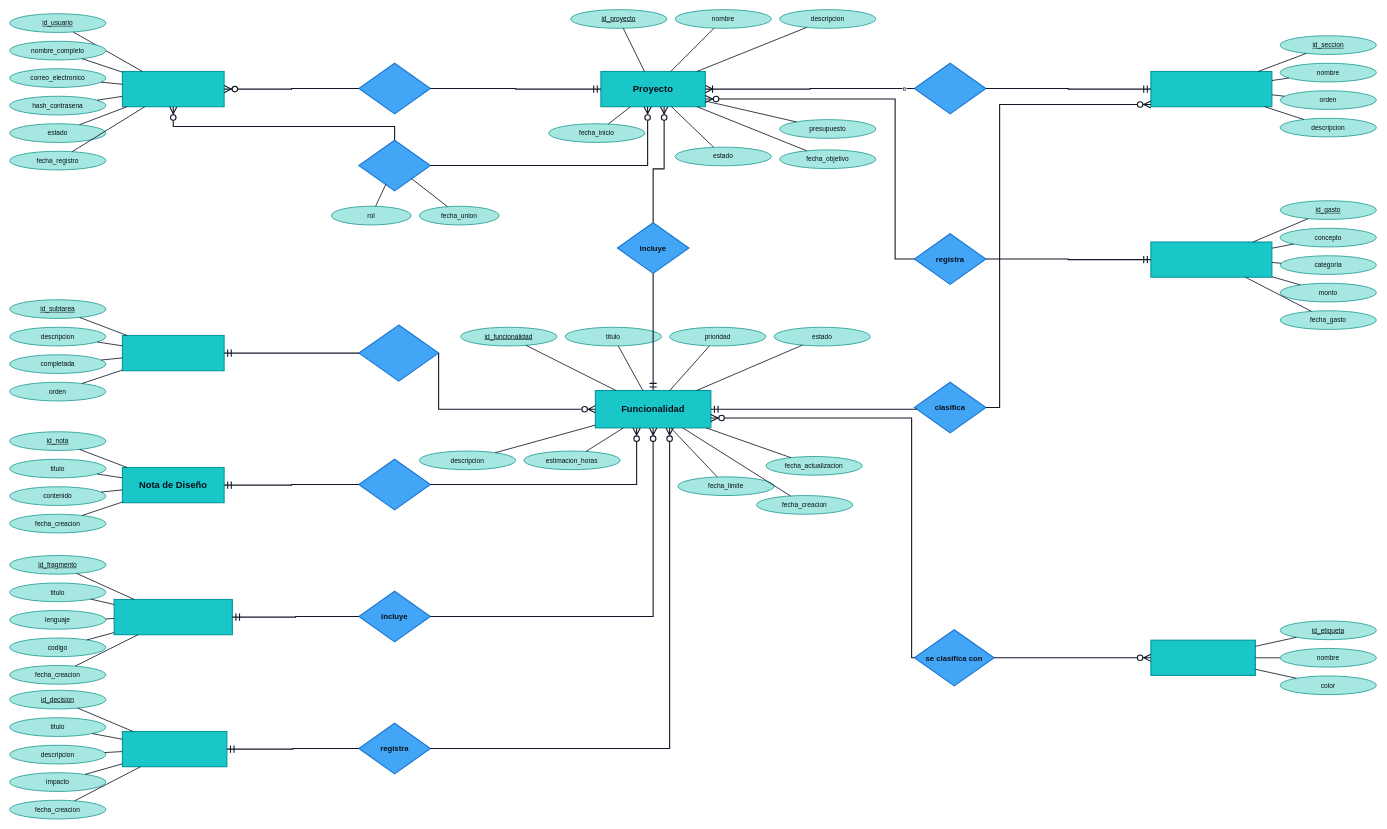
This 1387x829 diagram has some shape labels left out. Here are the shapes that lost their labels. From the top down, the box of each, then its label:
(122, 71, 224, 107): Usuario
(358, 62, 431, 114): posee
(914, 62, 986, 114): contiene
(1150, 71, 1272, 107): Sección de Tablero
(358, 139, 431, 191): colabora en
(1150, 241, 1272, 277): Gasto o Recurso
(122, 335, 224, 371): Subtarea
(358, 324, 439, 381): se descompone en
(358, 458, 431, 510): tiene
(113, 599, 233, 635): Fragmento de Código
(1150, 639, 1256, 676): Etiqueta
(122, 731, 227, 767): Decisión Técnica
